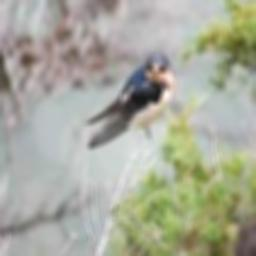Swallow: (85, 51, 174, 147)
